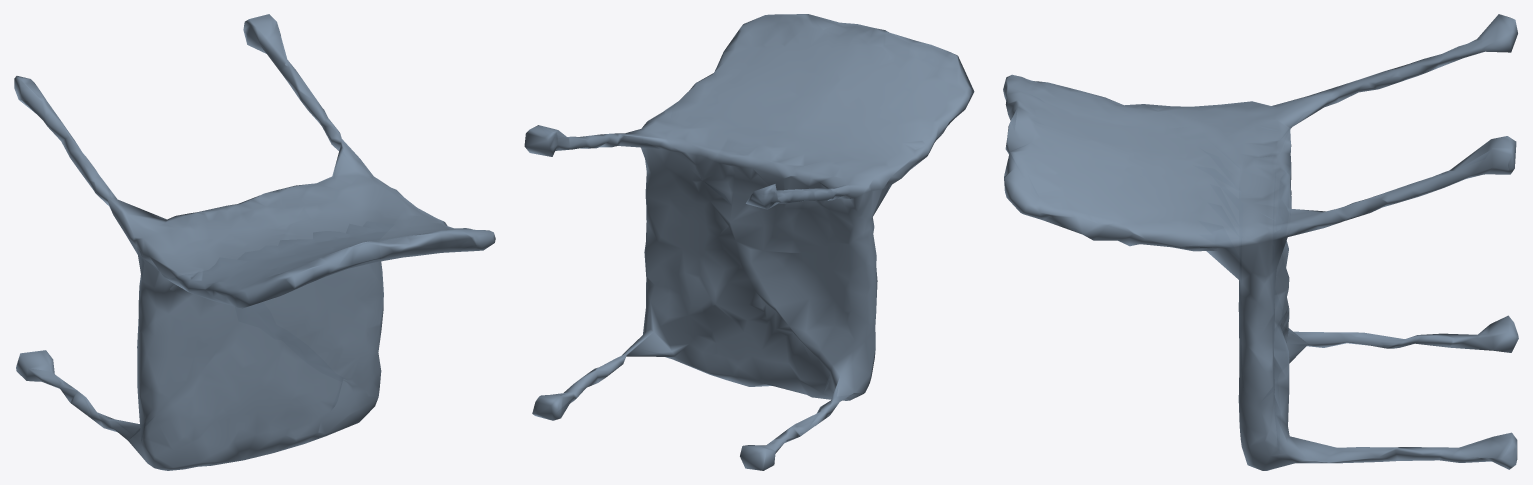
Rendered from chair_0183_original.obj.
3 views of the same model, side by side, from view 1: azimuth 30°, elevation 25°; view 2: azimuth 150°, elevation 25°; view 3: azimuth 270°, elevation 25° (orthographic). The views are drawn at different scales.
Bounding box in the file's own units: 0.8514 × 1.02 × 1.37.
